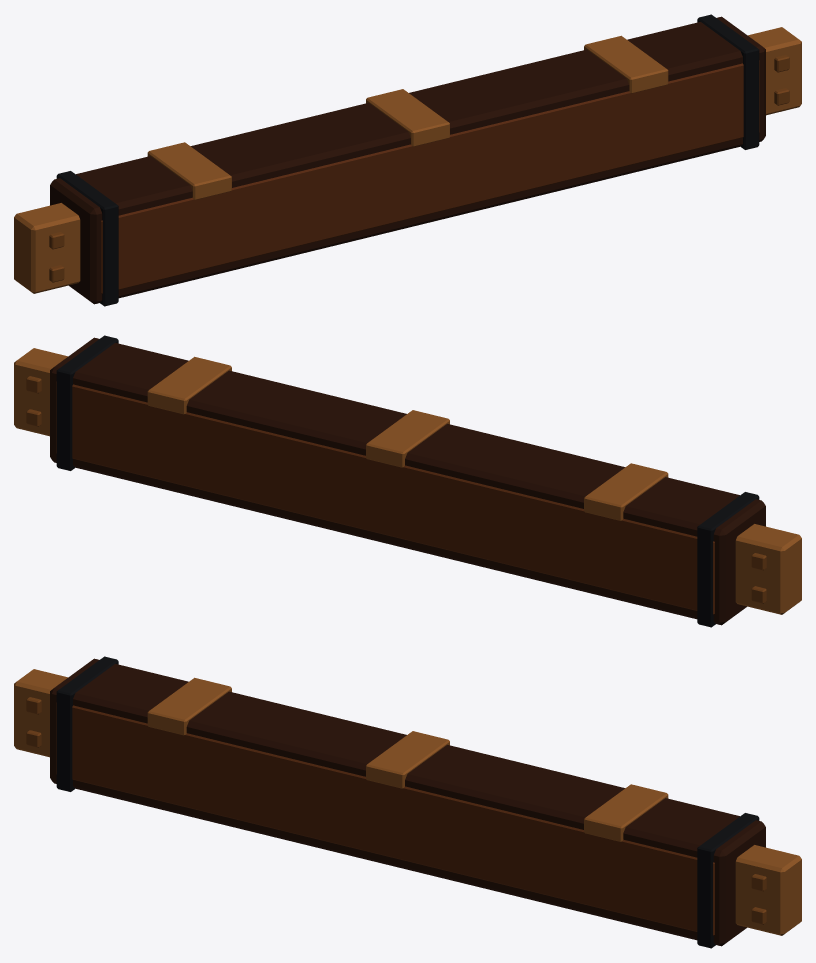
The model's file is mod_timber_beam_tenon_2m.glb.
3 views of the same model, one above another, from view 1: azimuth 30°, elevation 25°; view 2: azimuth 150°, elevation 25°; view 3: azimuth 330°, elevation 25° (orthographic).
Parts seen in each view (by area): view 1: Mod_Timber_Beam_Tenon_2m; view 2: Mod_Timber_Beam_Tenon_2m; view 3: Mod_Timber_Beam_Tenon_2m.
Part boxes in pixels (left/top/right/bottom): Mod_Timber_Beam_Tenon_2m: left=14, top=14, right=801, bottom=306; Mod_Timber_Beam_Tenon_2m: left=14, top=335, right=801, bottom=627; Mod_Timber_Beam_Tenon_2m: left=14, top=656, right=801, bottom=948.
Size of the model in its own units: 2.19 by 0.271 by 0.236.
